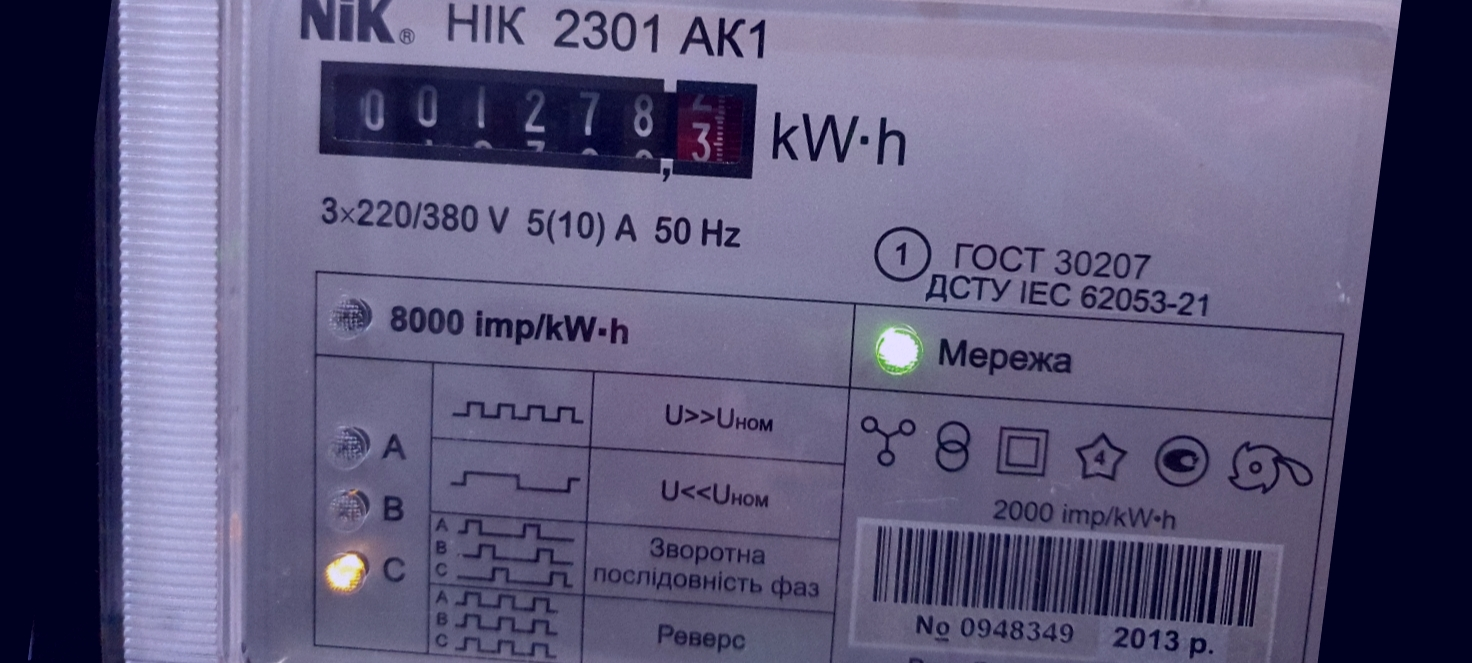0: (357, 83, 391, 134), (411, 81, 442, 130)
1: (470, 82, 492, 132)
2: (518, 85, 550, 135), (687, 91, 715, 115)
3: (684, 116, 716, 163)
7: (573, 87, 601, 138)
8: (627, 90, 658, 140)
screen: (289, 17, 780, 219)
